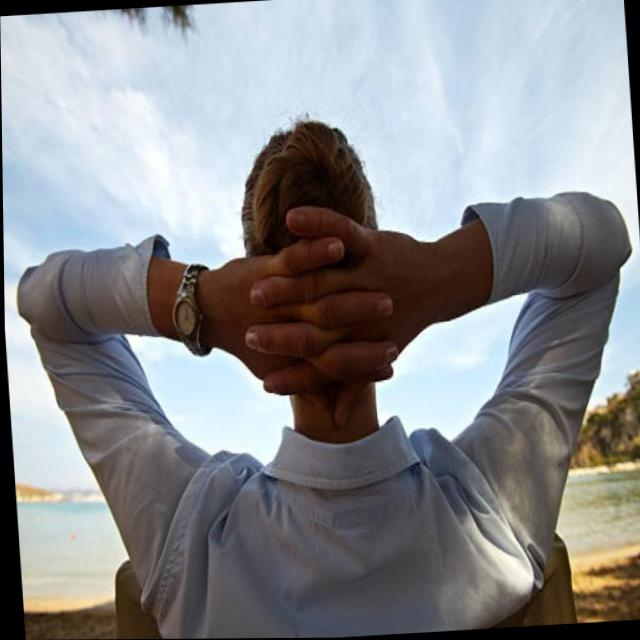no helmet: (209, 116, 420, 448)
